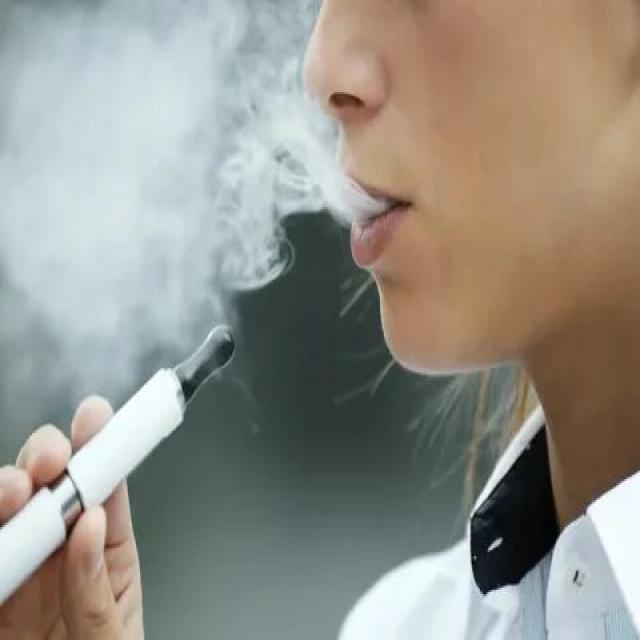smoke: (0, 305, 248, 611)
